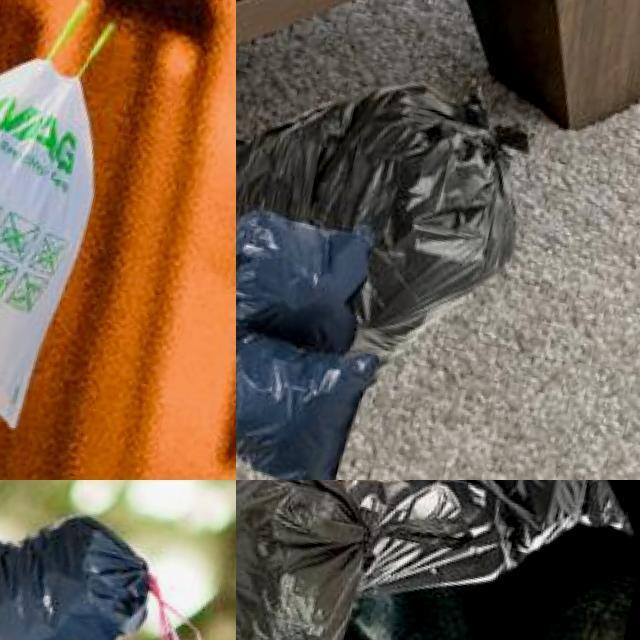waste: (236, 49, 548, 365), (0, 5, 129, 438), (329, 480, 640, 634), (0, 482, 172, 640), (236, 480, 397, 640), (236, 195, 381, 359), (236, 316, 380, 480)
